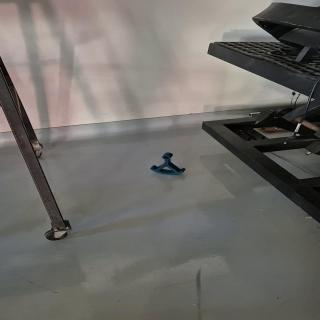haptic: (150, 152, 187, 175)
